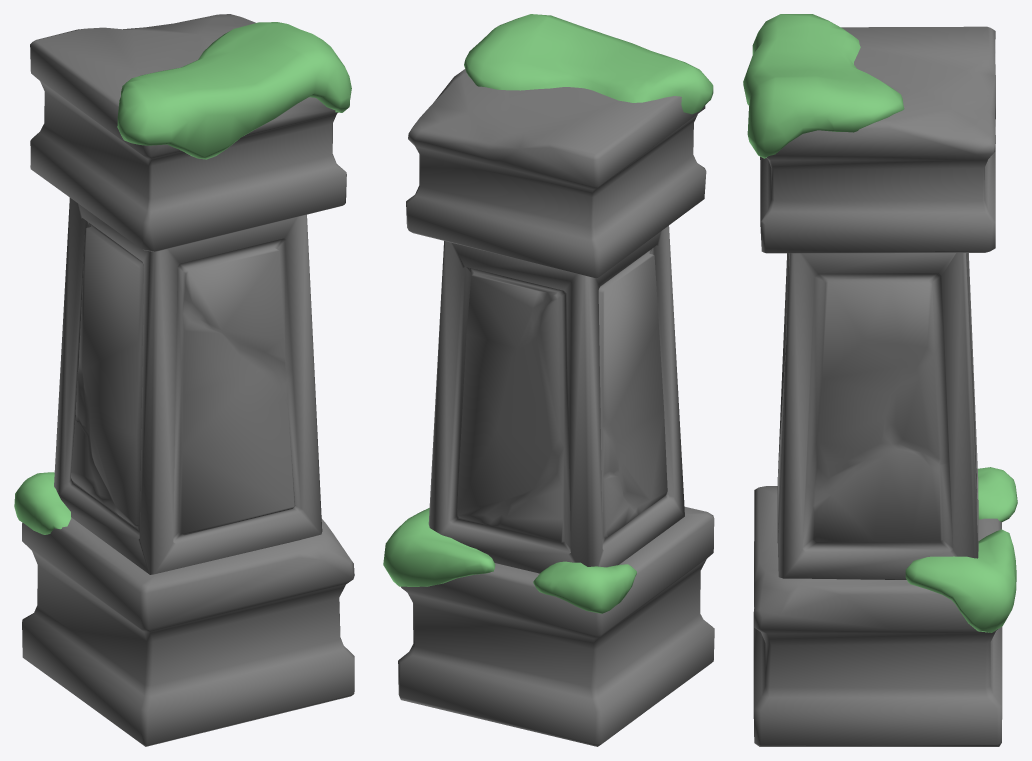
Rendered from Pillar_moss.fbx.
The picture shows the model from 3 angles, left to right: view 1: azimuth 30°, elevation 25°; view 2: azimuth 150°, elevation 25°; view 3: azimuth 270°, elevation 25°; orthographic projection. The views are drawn at different scales.
Visible parts, largest first — view 1: Pillar, moss; view 2: Pillar, moss; view 3: Pillar, moss.
Part boxes in pixels (bbox=[...]): Pillar: bbox=[22, 14, 354, 746]; moss: bbox=[14, 22, 351, 534]; Pillar: bbox=[398, 69, 714, 746]; moss: bbox=[383, 14, 713, 613]; Pillar: bbox=[753, 26, 1002, 746]; moss: bbox=[743, 14, 1017, 632].
Size of the model in its own units: 128 by 329 by 126.
